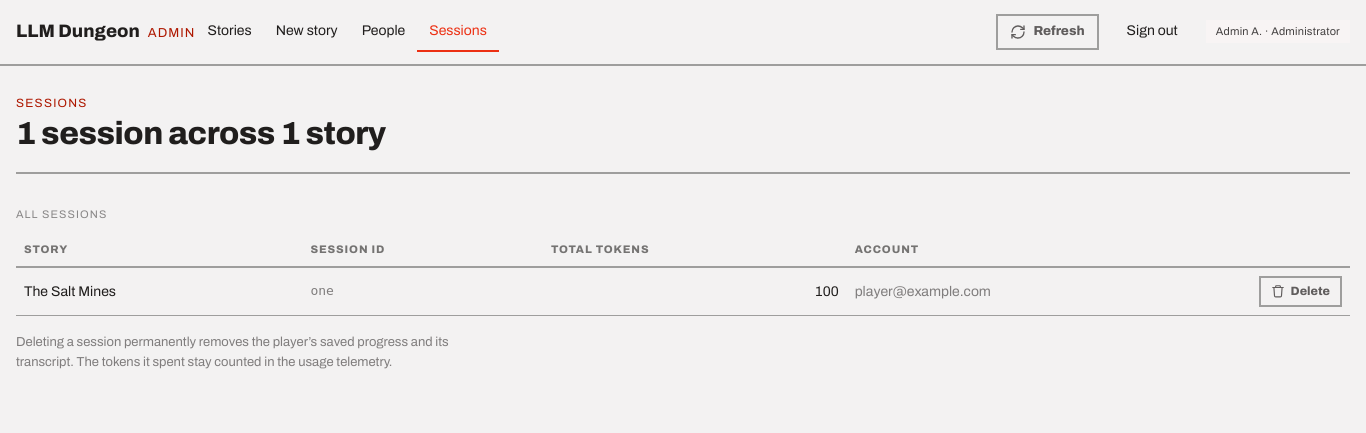
Admin Sessions refresh (031 FR-016; 019-spa-refresh-button) › re-reads the list and recomputes the heading, without leaving the screen
Expected: the heading "1 session across 1 story" is shown, [16, 116, 386, 151]
Click the button "Refresh" at (1047, 32), box [996, 14, 1099, 50]
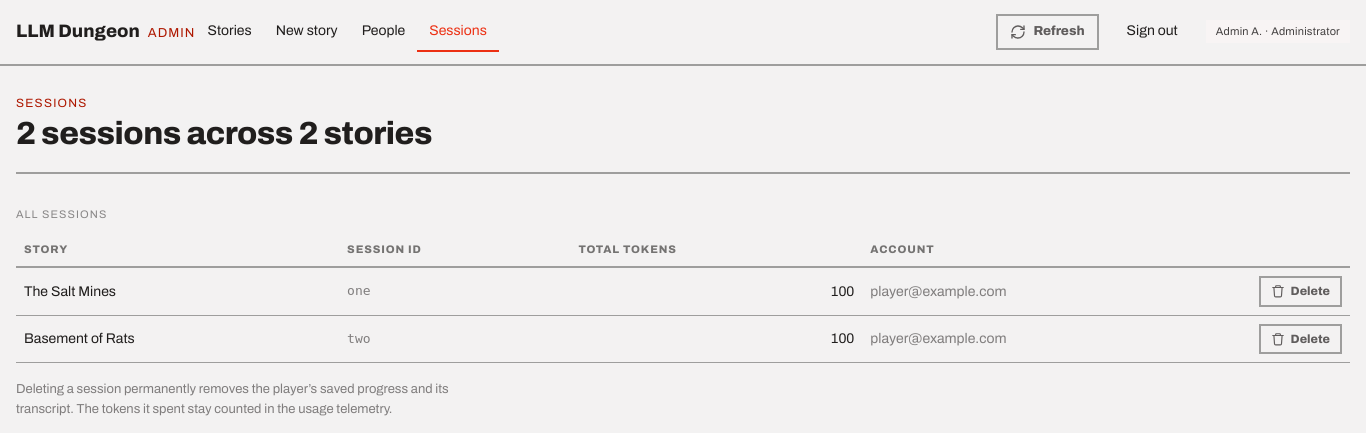
Now the text "two" is shown, box [339, 315, 570, 362]
Now the heading "2 sessions across 2 stories" is shown, box [16, 116, 432, 151]
